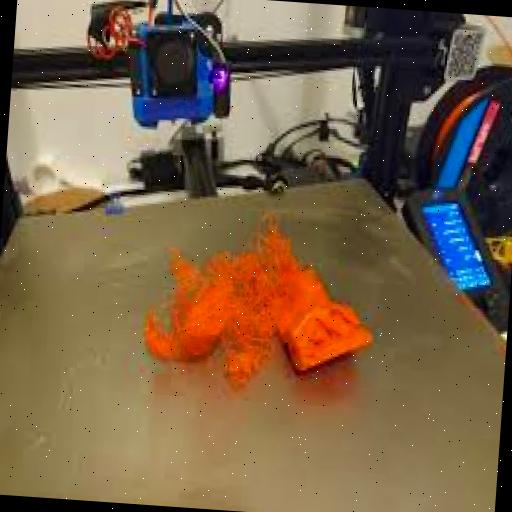spaghetti: (147, 202, 322, 408)
